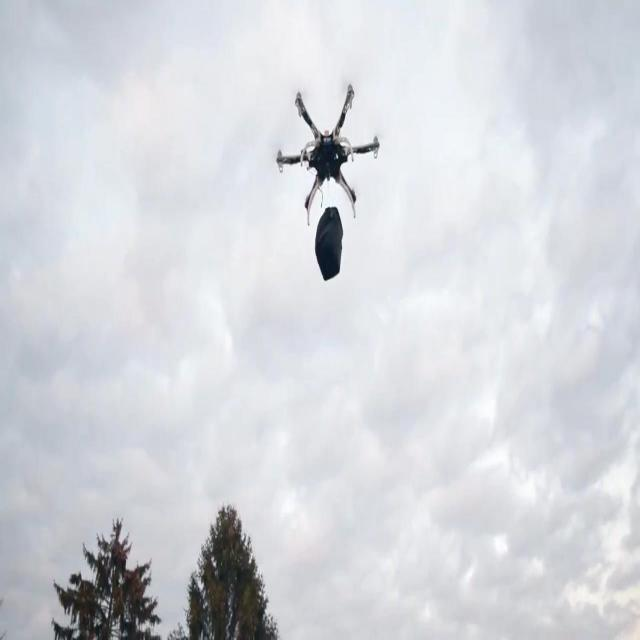UAV: (276, 84, 380, 226)
